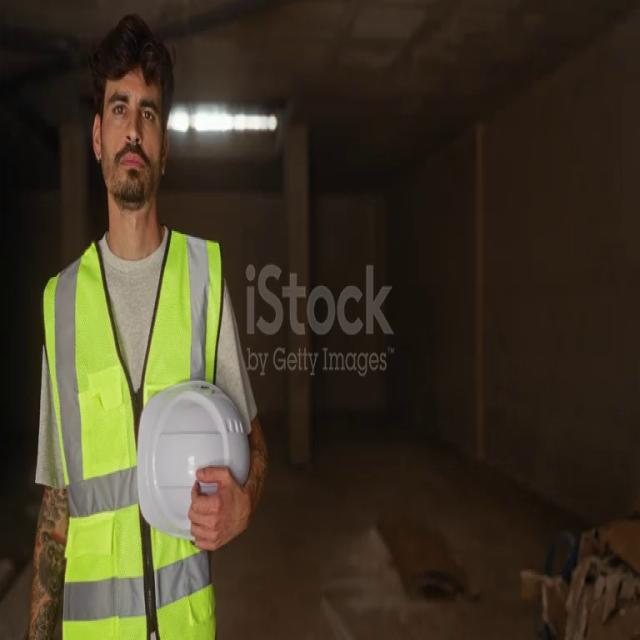sem_capacete: (77, 14, 181, 238)
